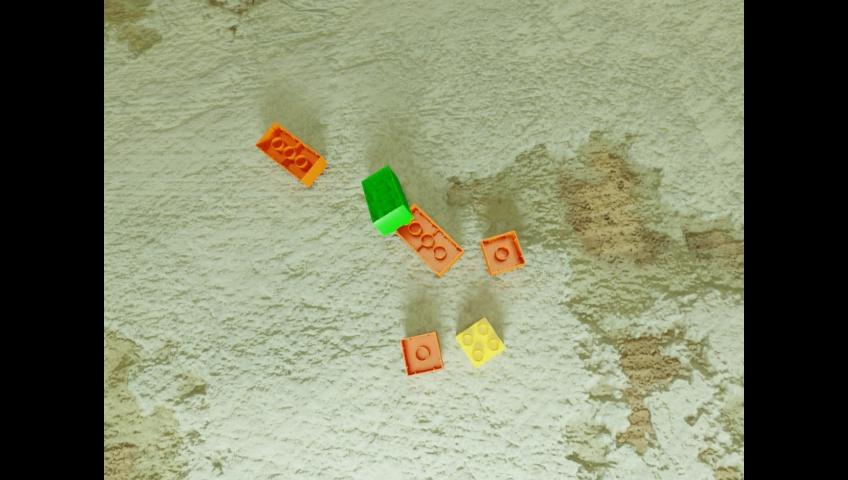2x2_orange: (480, 230, 525, 275), (400, 331, 443, 376)
2x2_yellow: (457, 316, 505, 368)
4x2_green: (361, 164, 412, 235)
4x2_orange: (395, 203, 463, 276), (254, 121, 327, 187)
